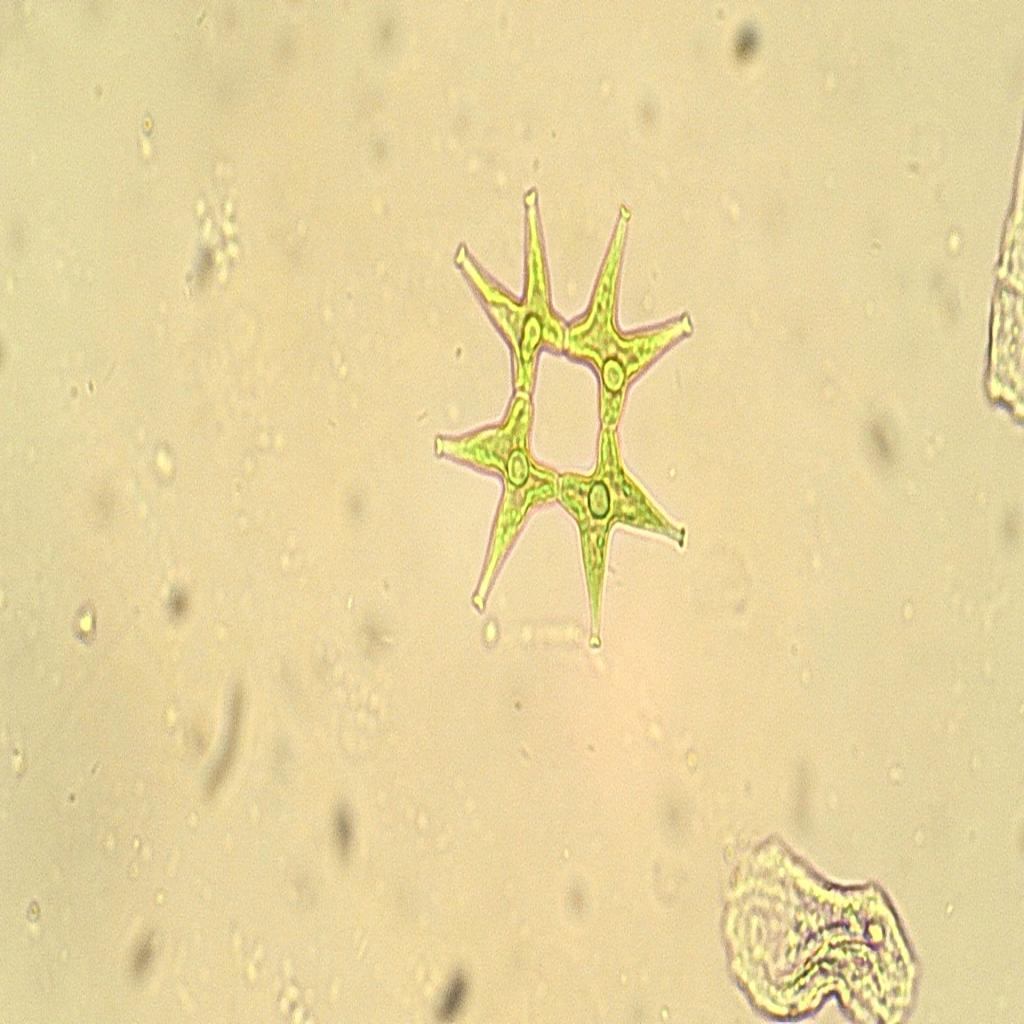Pediastrum_CO: (427, 165, 702, 676)
